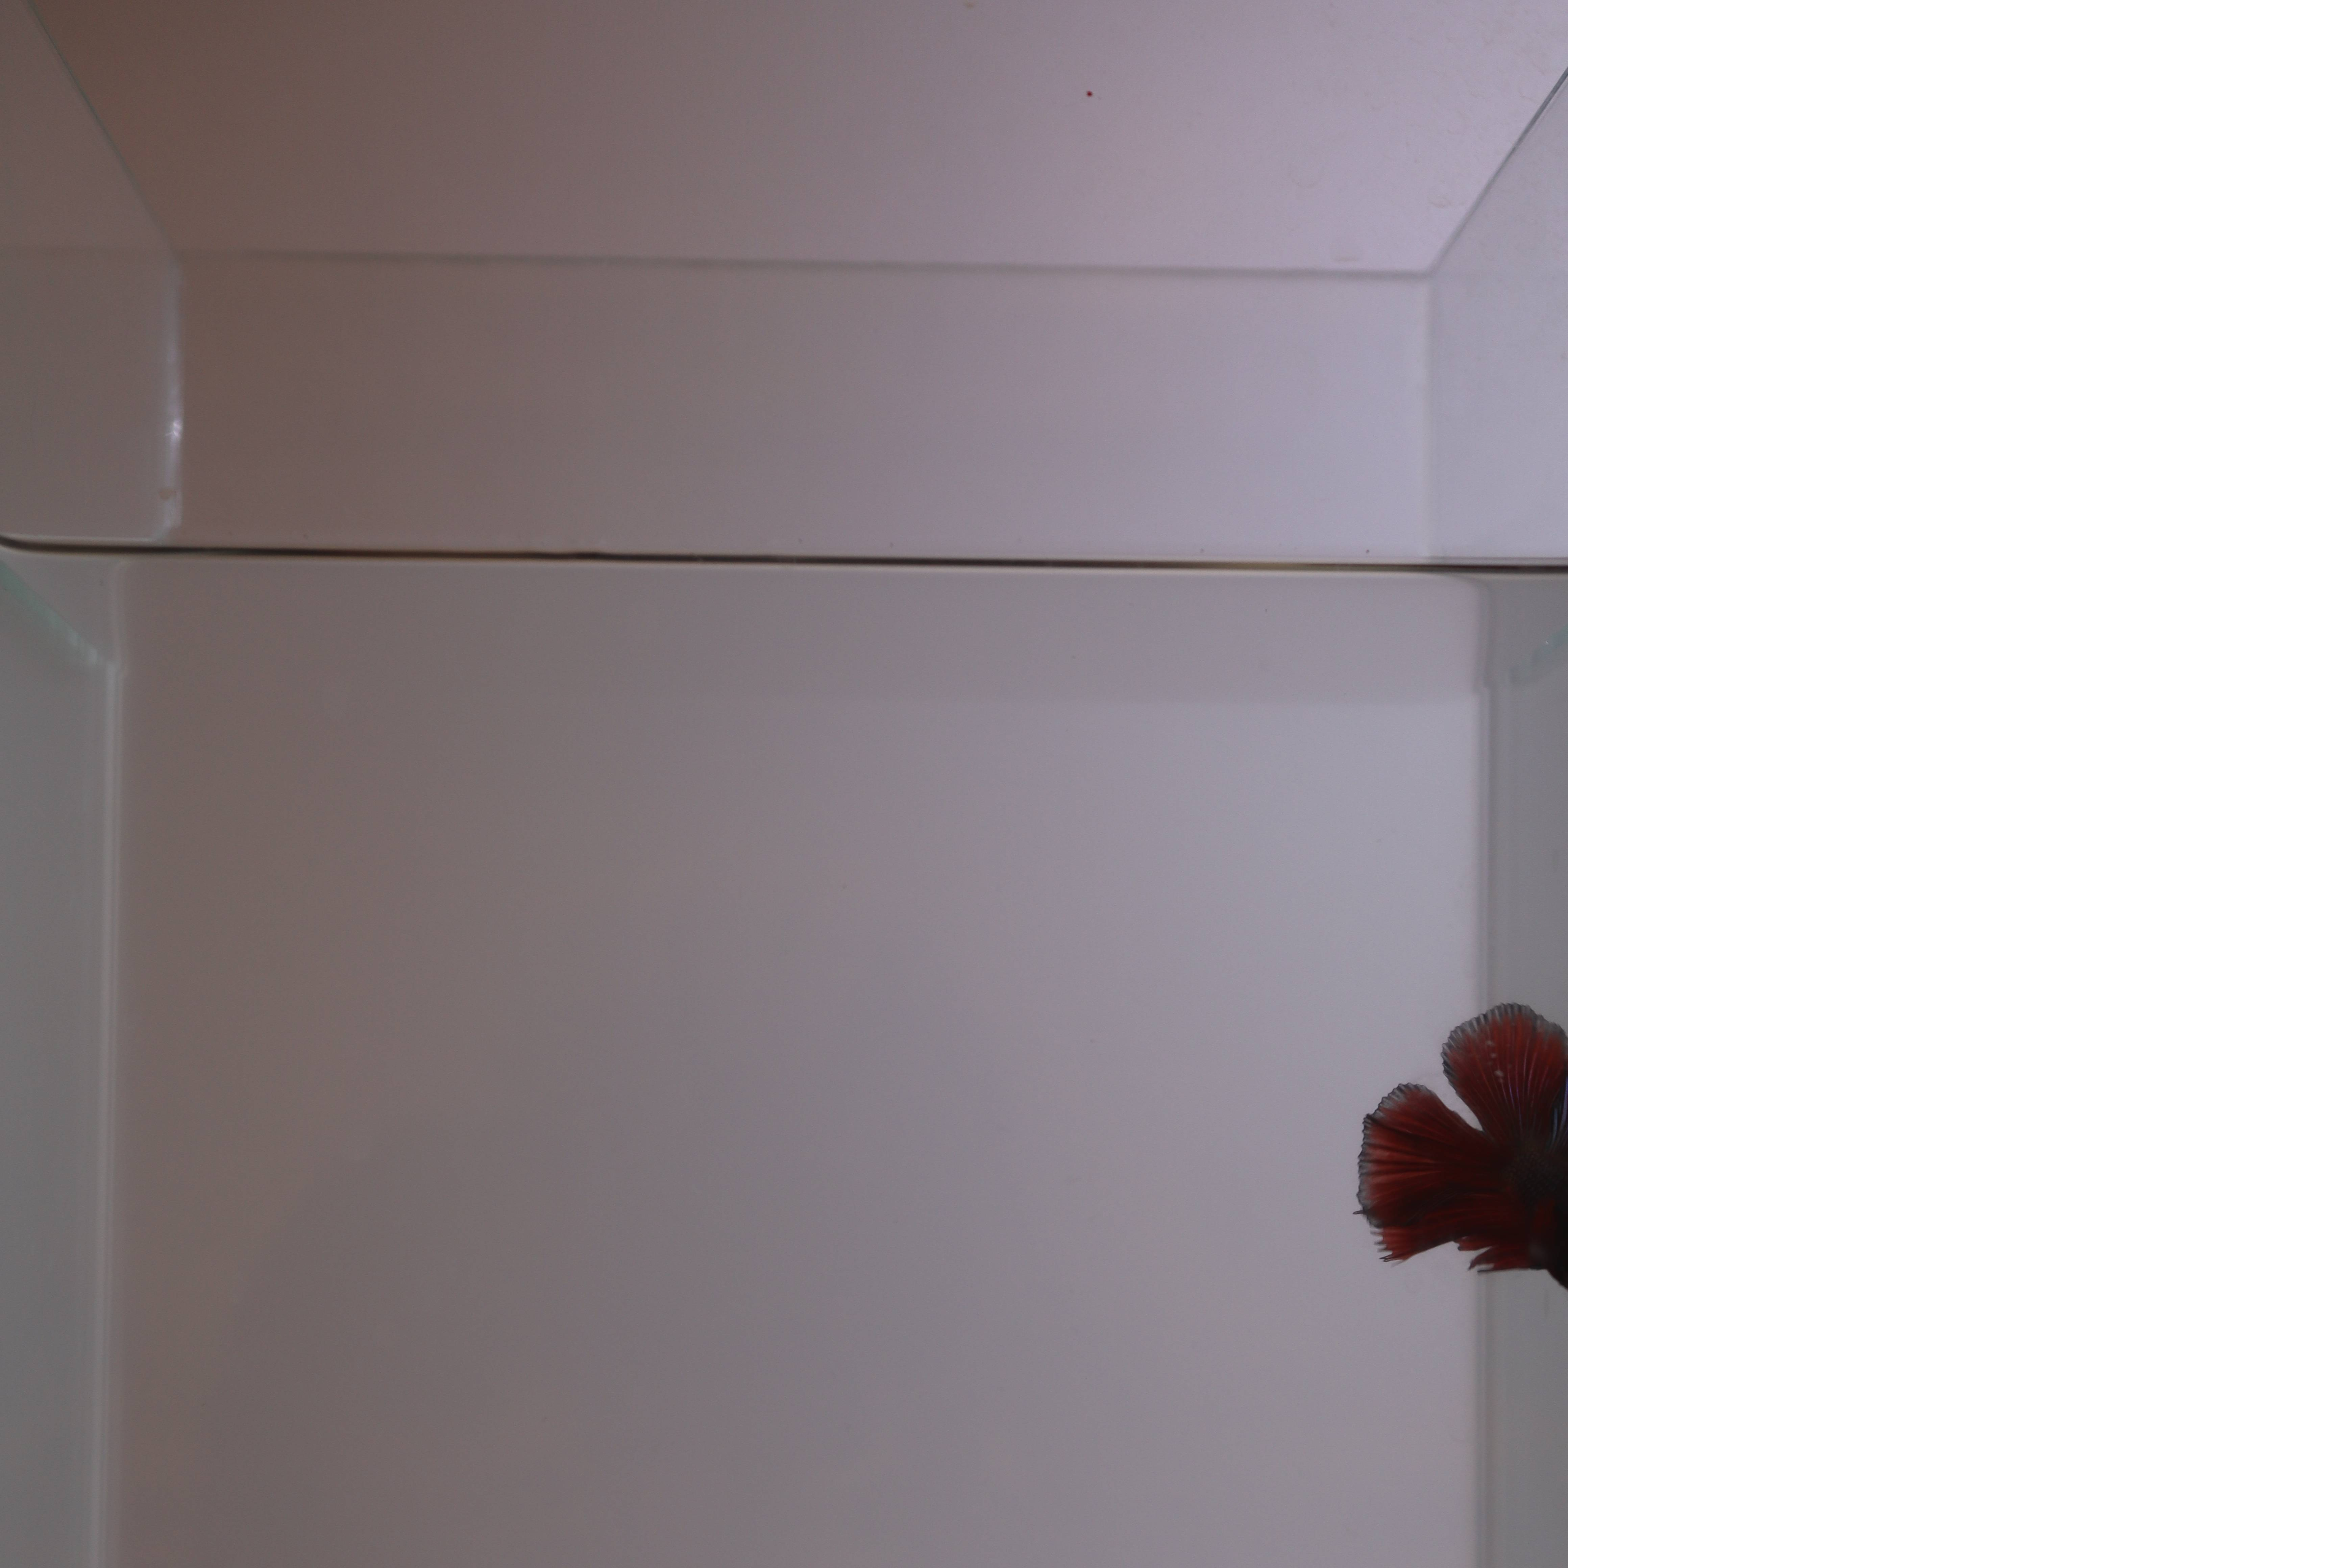fish: (1328, 997, 1568, 1298)
